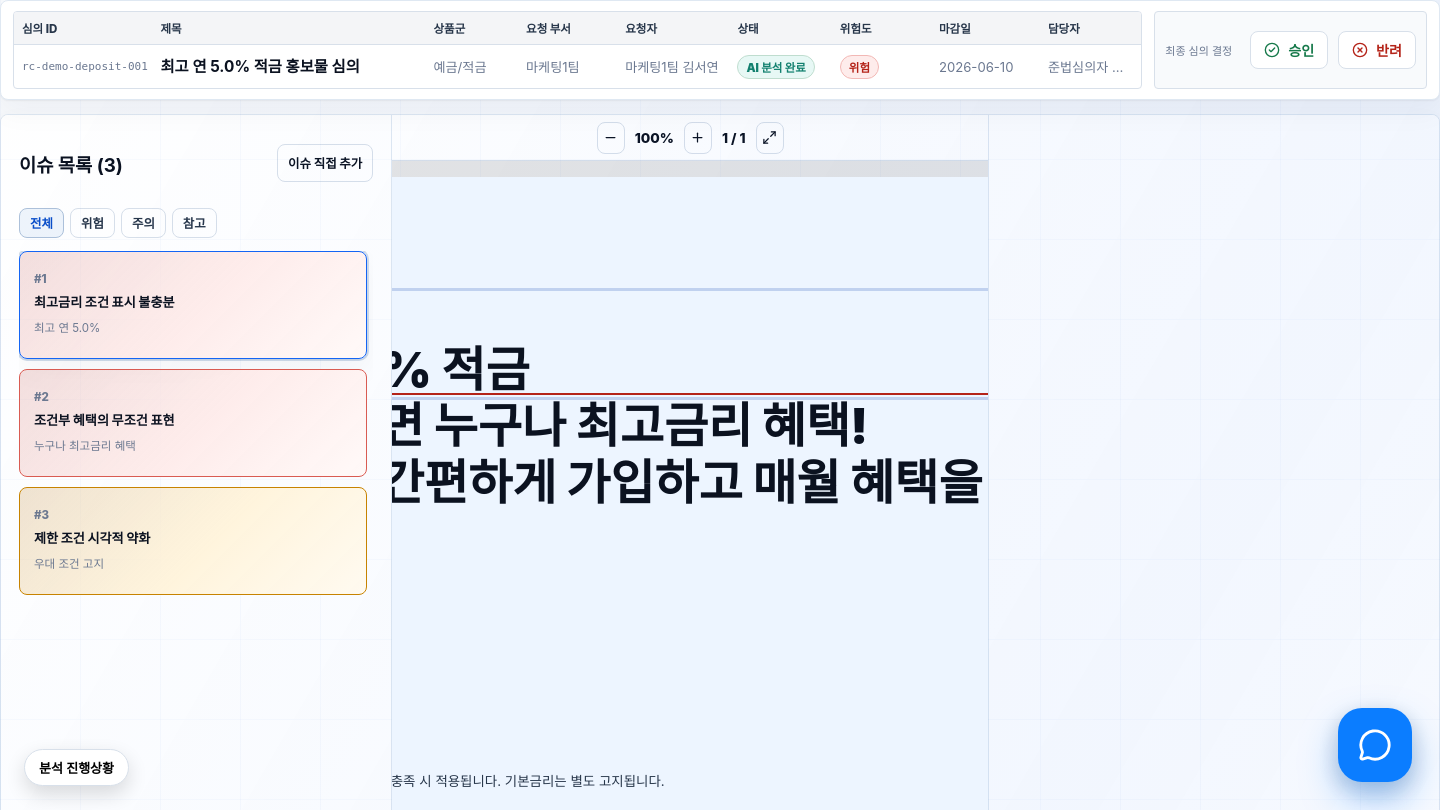
Test: ReviewDetailWorkspace › renders long model answers as readable paragraphs and lists
The image size is (1440, 810).
Click the button named "근거 채팅 열기".
click(1375, 745)  # box [1338, 708, 1412, 782]
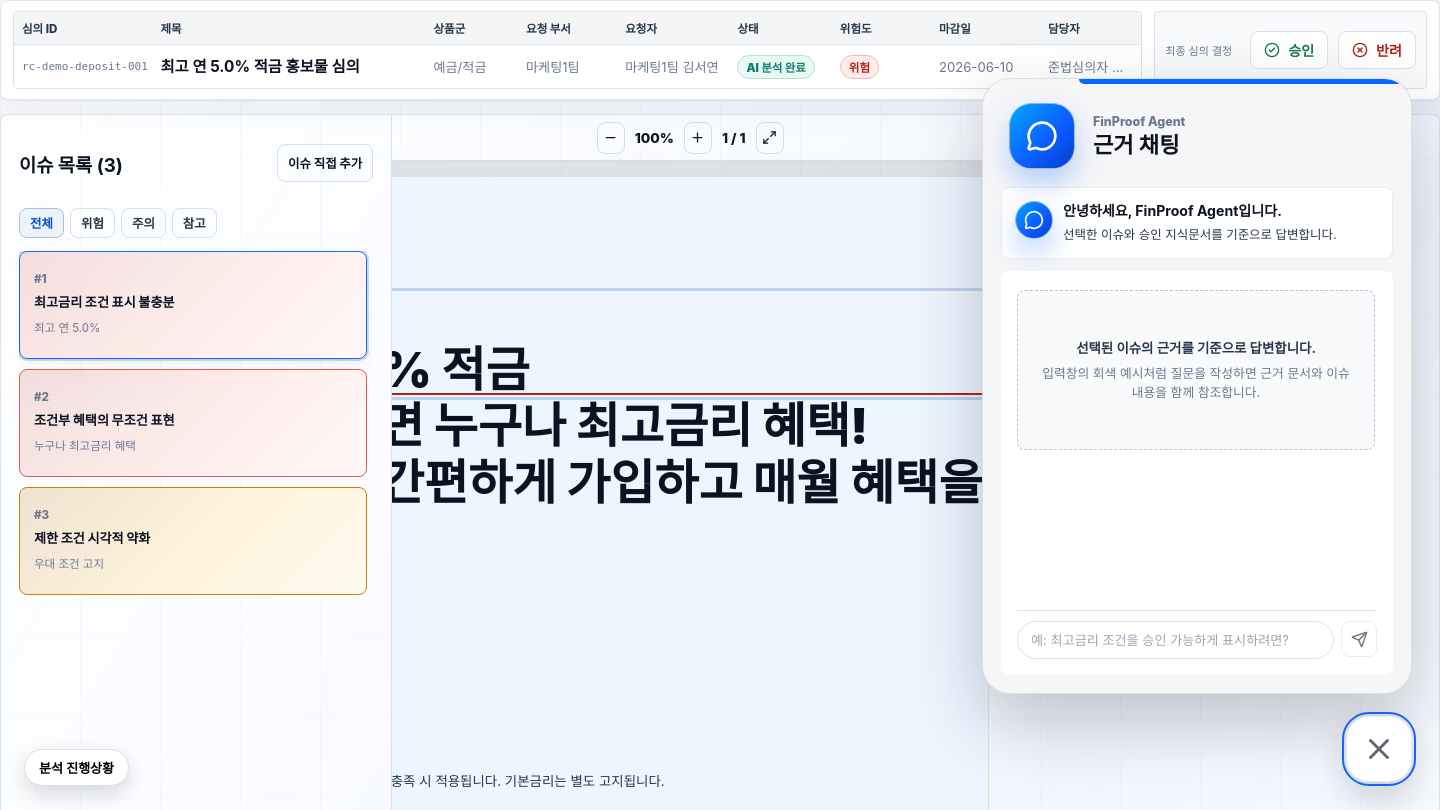
Type "어떤 조건을 써야 하나요?" into the field named "RAG question".
click(1176, 640); type("어떤 조건을 써야 하나요?")  # box [1017, 621, 1334, 659]
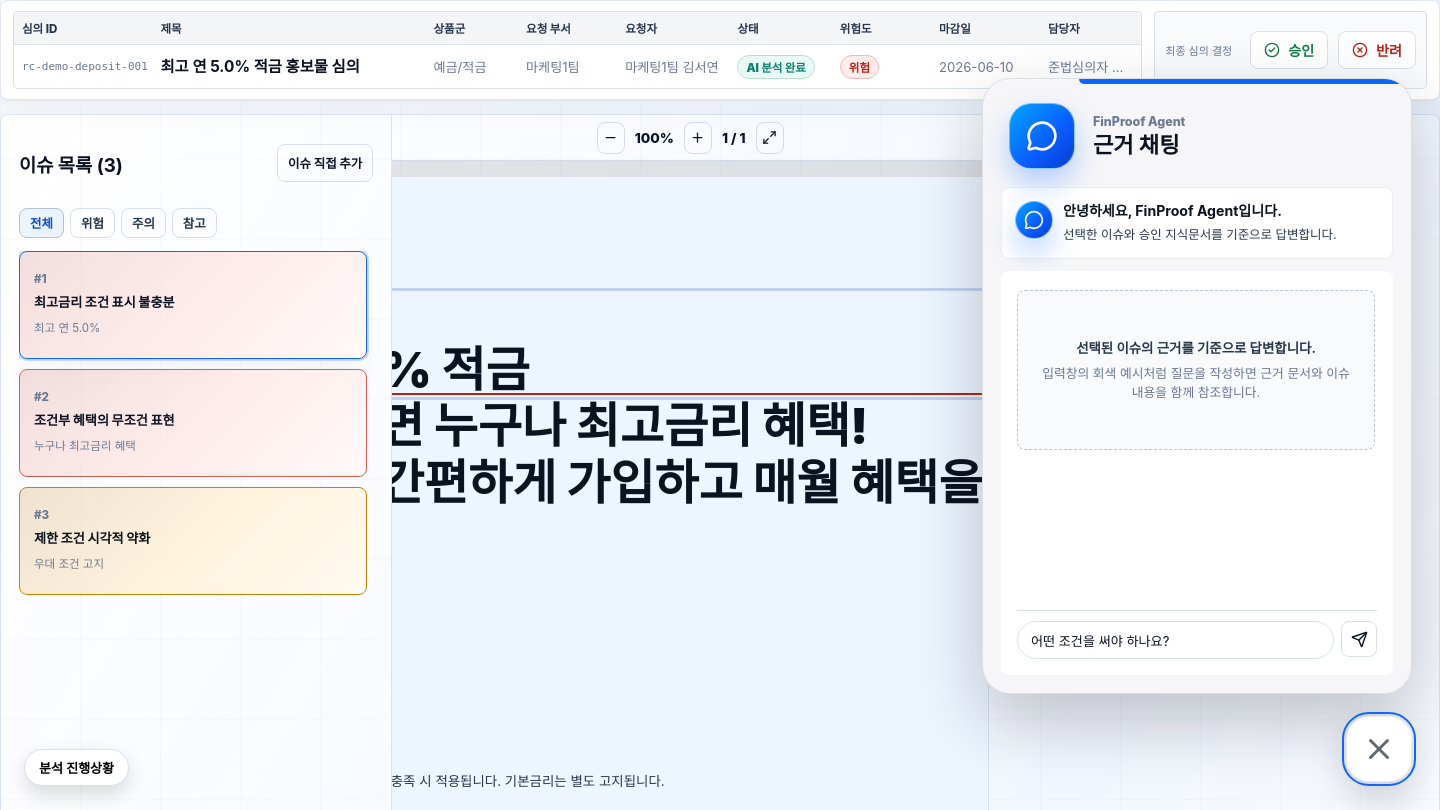
Click the button named "질문 보내기".
click(1359, 639)  # box [1341, 621, 1377, 657]
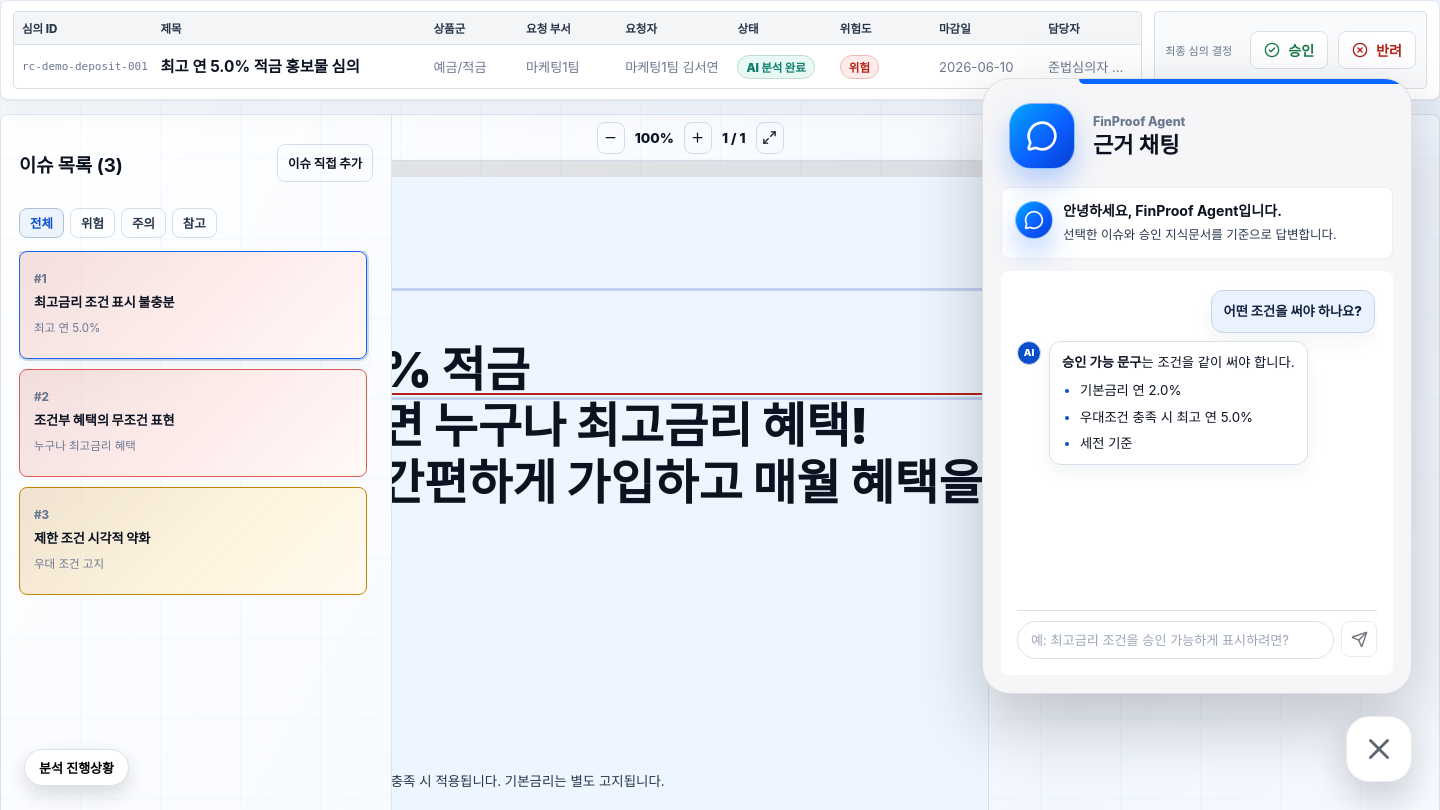
Check: the text "승인 가능 문구" is shown, box [1062, 354, 1142, 370]
Check: the list item "기본금리 연 2.0%" is shown, box [1080, 382, 1182, 398]
Check: the list item "우대조건 충족 시 최고 연 5.0%" is shown, box [1080, 409, 1253, 425]
